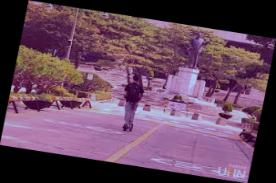nonhelmet: (112, 71, 149, 133)
